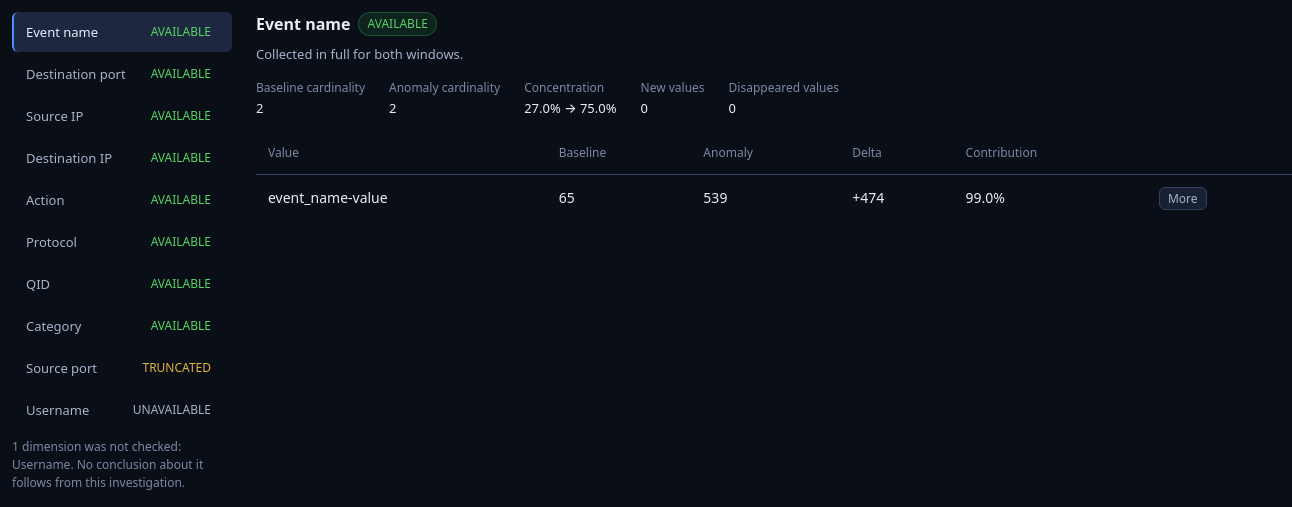
Test: switching dimensions › keeps a truncated dimension's rows while withholding its counts
The width and height of the screenshot is (1292, 507).
Click the button "Source port TRUNCATED" at (122, 368), box [12, 348, 232, 388]
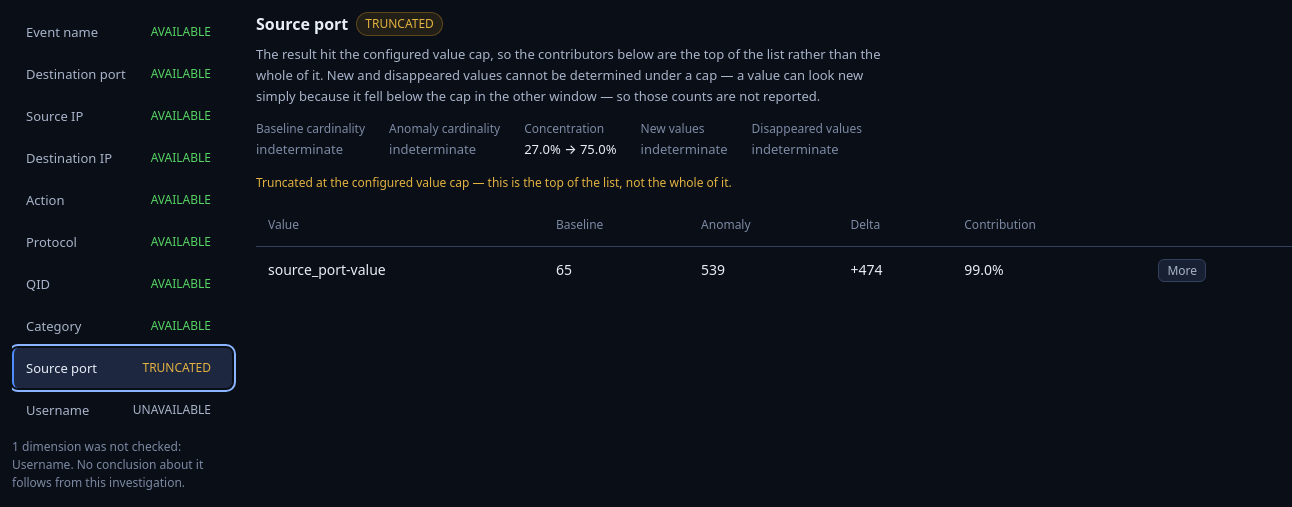
Expected: the table is shown, [256, 204, 1291, 294]
Expected: the text "indeterminate" is shown 4 times, [256, 140, 343, 158]; [389, 140, 476, 158]; [640, 140, 728, 158]; [752, 140, 838, 158]
